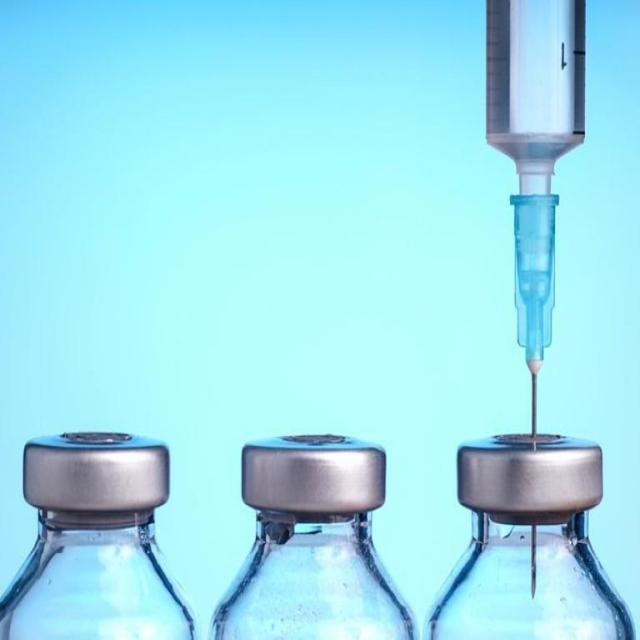B3: (205, 421, 421, 640), (423, 421, 635, 640), (0, 416, 203, 640), (508, 192, 562, 603)
